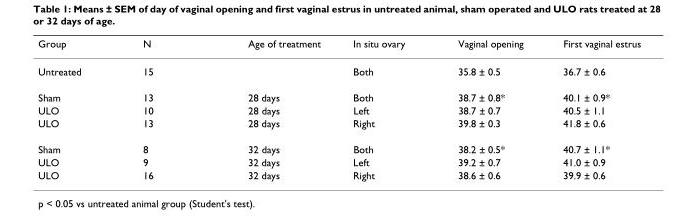table: (37, 37, 640, 180)
table column: (200, 37, 336, 180), (430, 37, 542, 180), (542, 37, 640, 180), (336, 37, 430, 180), (111, 37, 200, 180), (37, 37, 111, 180)
table column header: (37, 37, 640, 57)
table row: (37, 57, 640, 84), (37, 37, 640, 57), (37, 135, 640, 155), (37, 84, 640, 103), (37, 116, 640, 135), (37, 103, 640, 116), (37, 155, 640, 168), (37, 168, 640, 180)
